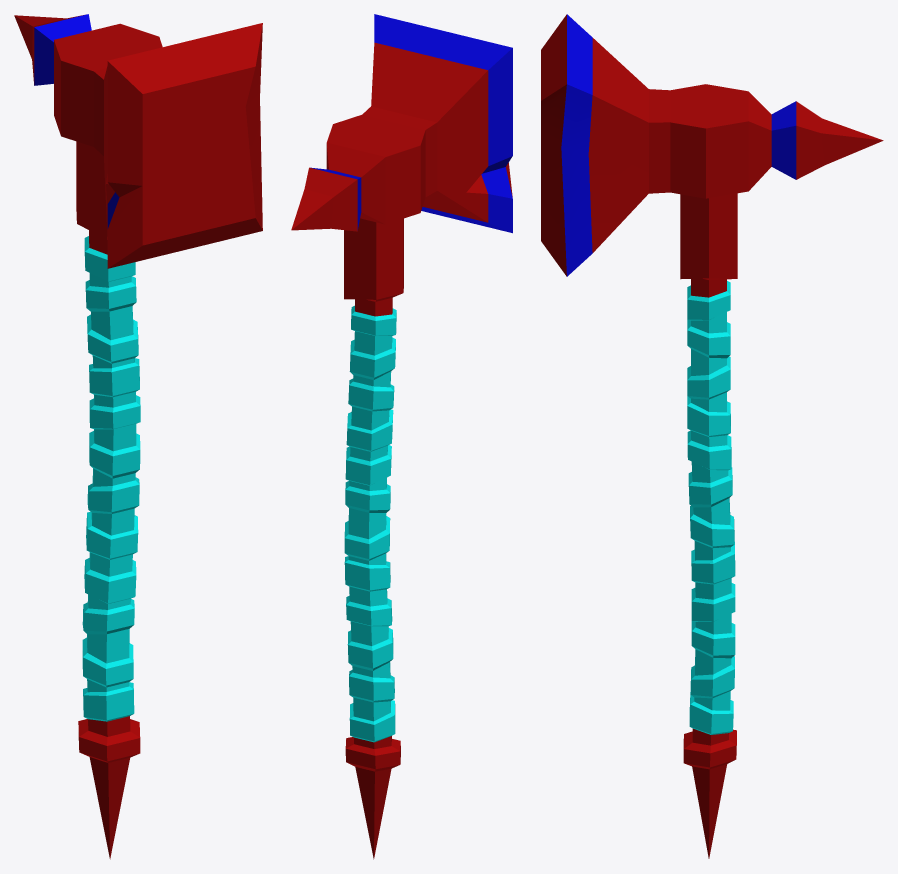
File: Mace_Common_Elegant.fbx
The picture shows the model from 3 angles, left to right: view 1: azimuth 30°, elevation 25°; view 2: azimuth 150°, elevation 25°; view 3: azimuth 270°, elevation 25°; orthographic projection. The views are drawn at different scales.
Parts seen in each view (by area): view 1: SM_Wep_Hammer_Small_02; view 2: SM_Wep_Hammer_Small_02; view 3: SM_Wep_Hammer_Small_02.
Boxes of the visible parts, box(x1,y1,x2,y2) form: SM_Wep_Hammer_Small_02: box(14, 14, 262, 859); SM_Wep_Hammer_Small_02: box(291, 14, 512, 859); SM_Wep_Hammer_Small_02: box(541, 14, 883, 858).
Size of the model in its own units: 0.2036 by 1.1 by 0.4201.
